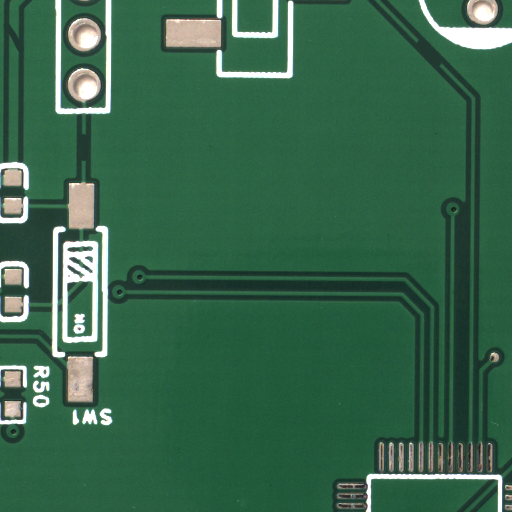Open_circuit: (429, 52, 452, 78), (14, 38, 25, 63), (81, 147, 89, 174)
